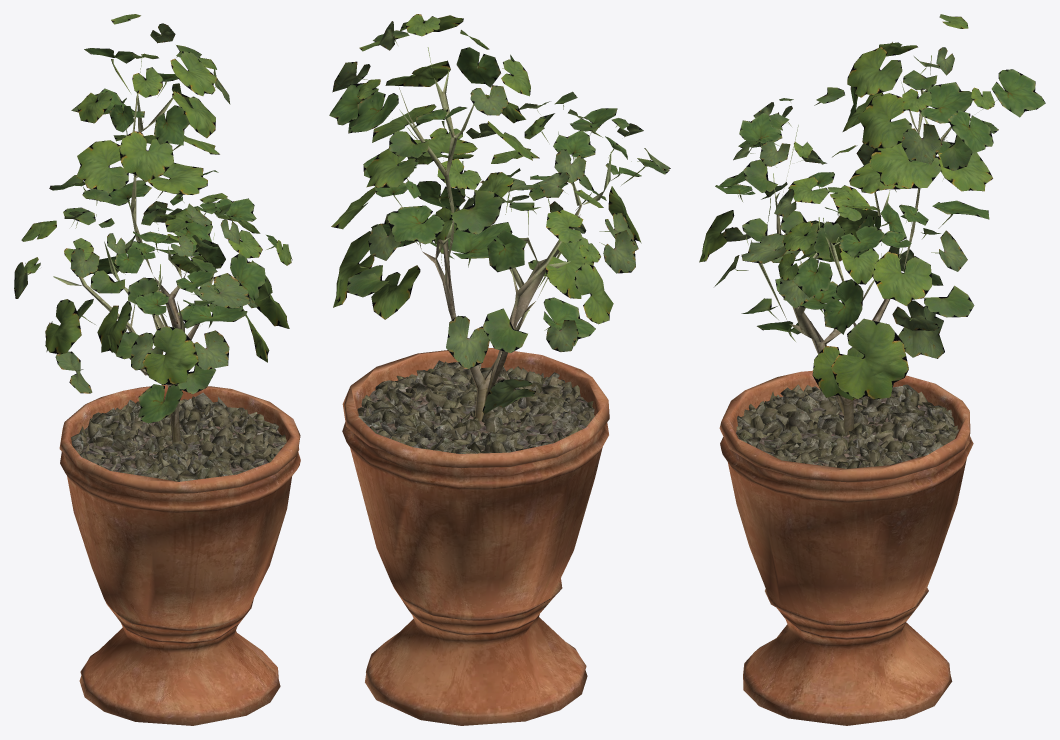
The model's file is potted_plant_01.glb.
The picture shows the model from 3 angles, left to right: view 1: azimuth 30°, elevation 25°; view 2: azimuth 150°, elevation 25°; view 3: azimuth 270°, elevation 25°; orthographic projection. The views are drawn at different scales.
Parts seen in each view (by area): view 1: potted_plant_01_stem, potted_plant_01_leaves; view 2: potted_plant_01_stem, potted_plant_01_leaves; view 3: potted_plant_01_stem, potted_plant_01_leaves.
Boxes of the visible parts, x1=… form: potted_plant_01_stem: x1=53, y1=54, x2=300, y2=725; potted_plant_01_leaves: x1=14, y1=14, x2=292, y2=423; potted_plant_01_stem: x1=342, y1=47, x2=611, y2=725; potted_plant_01_leaves: x1=329, y1=14, x2=670, y2=414; potted_plant_01_stem: x1=719, y1=55, x2=973, y2=725; potted_plant_01_leaves: x1=699, y1=14, x2=1045, y2=400.
Bounding box in the file's own units: 0.5866 × 1.33 × 0.6336.
2 materials, 2 textured.
